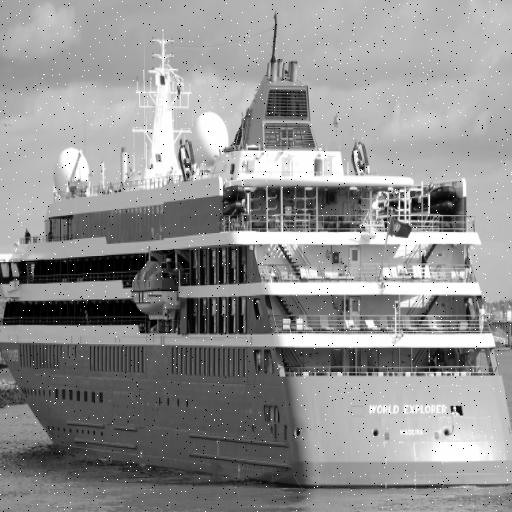cruises: (1, 4, 512, 499)
